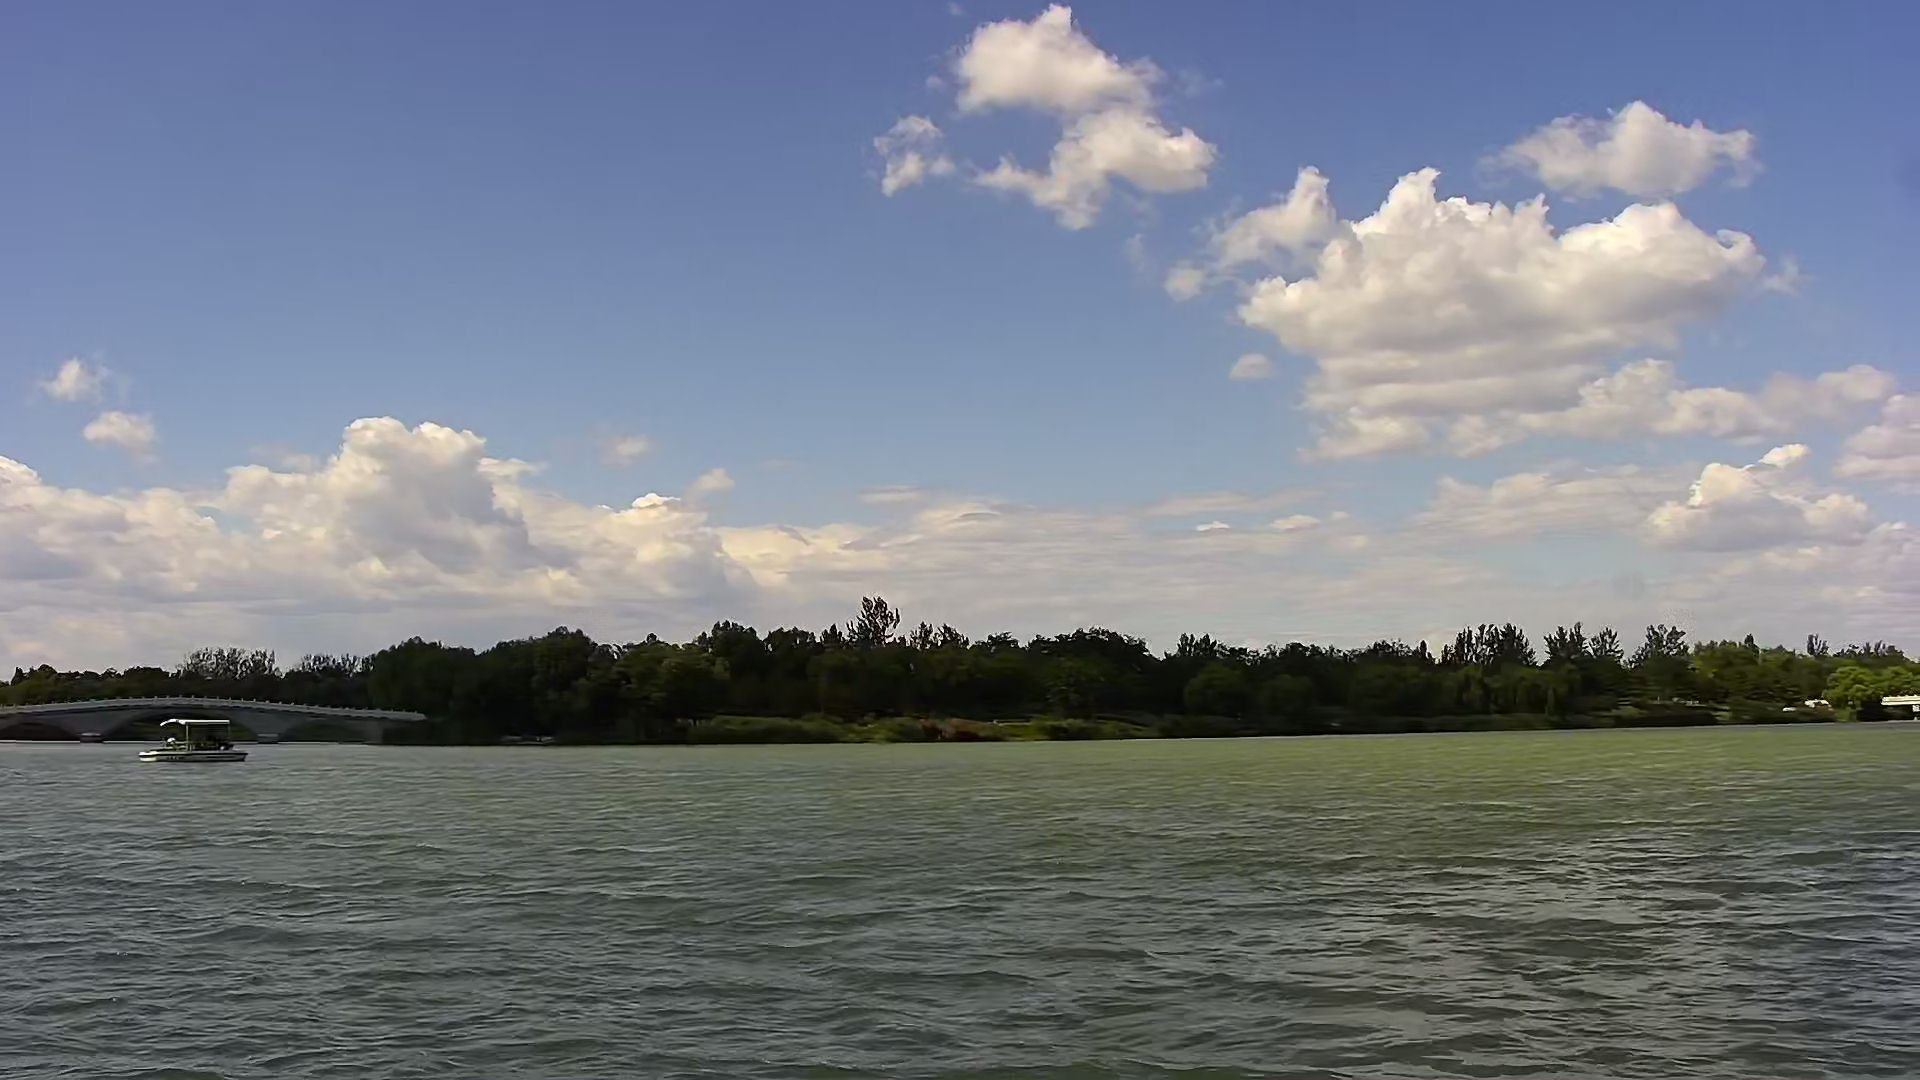boat: (133, 708, 249, 767)
bridge: (1, 695, 425, 754)
